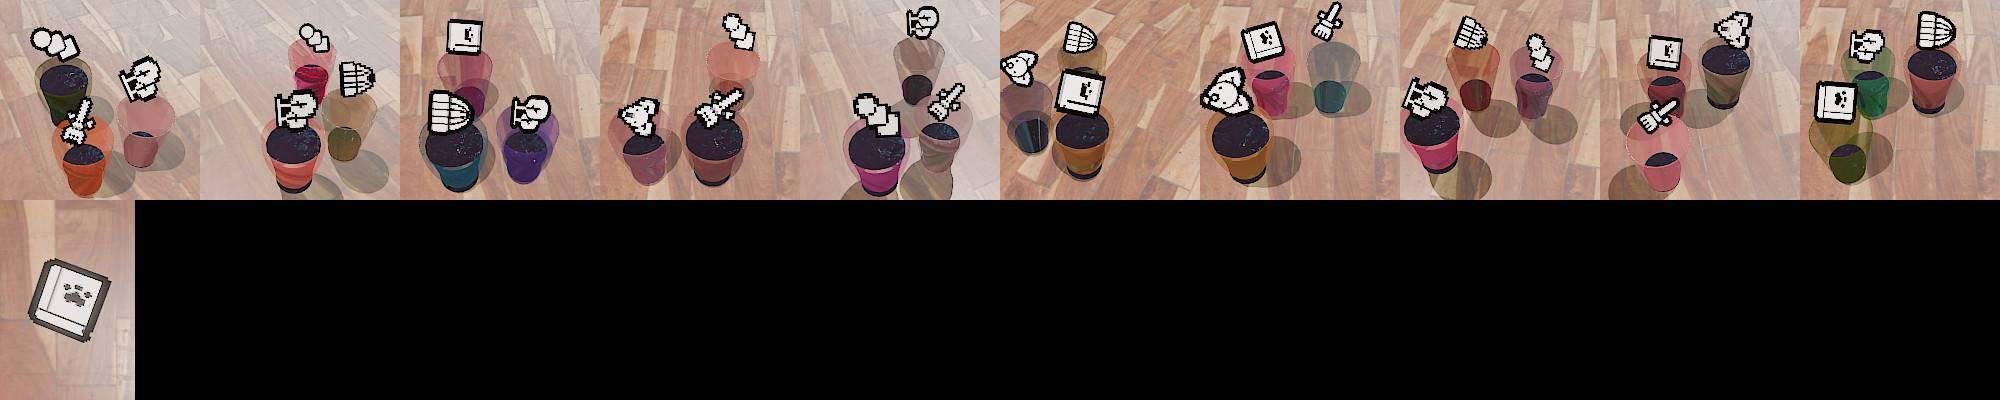icon: (26, 257, 114, 346), (1055, 66, 1106, 117), (1200, 66, 1251, 116), (1402, 75, 1452, 120), (693, 87, 744, 129), (853, 93, 901, 138), (429, 89, 473, 135), (119, 56, 162, 103), (1241, 20, 1287, 64), (273, 88, 319, 129), (619, 94, 661, 138), (1814, 80, 1856, 124), (60, 96, 96, 146), (29, 28, 80, 62), (1713, 10, 1753, 51), (927, 80, 966, 122), (510, 94, 552, 132), (1636, 98, 1679, 135), (1917, 11, 1957, 50), (445, 18, 483, 56), (1001, 48, 1038, 87), (1647, 34, 1684, 71), (722, 13, 758, 51), (1848, 28, 1886, 64), (339, 60, 376, 96), (1453, 15, 1489, 52), (1311, 3, 1344, 41), (1062, 19, 1097, 55), (906, 5, 939, 41), (1524, 32, 1554, 71), (297, 22, 330, 55)
